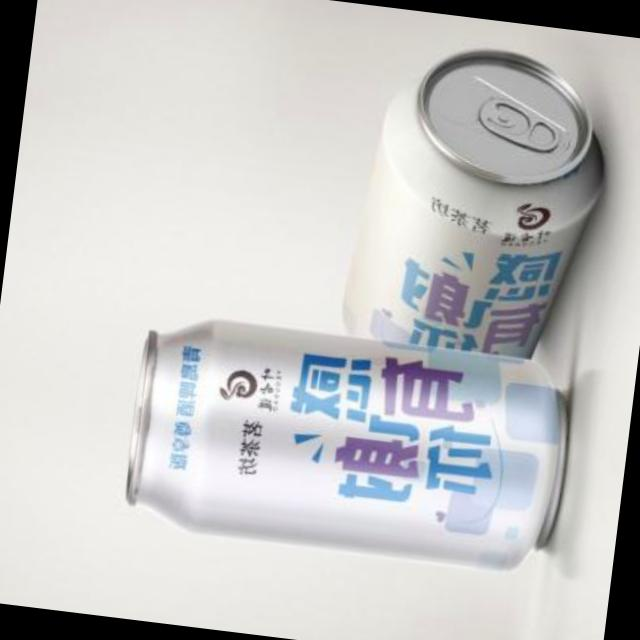metal: (125, 318, 563, 565), (343, 47, 599, 353)
